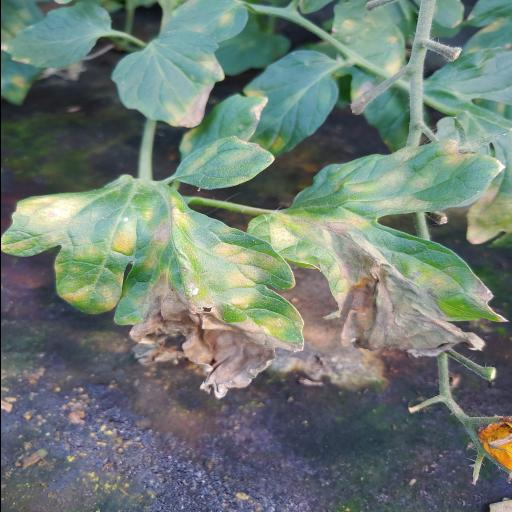Leaf Mold: (0, 175, 305, 399), (247, 138, 509, 359), (110, 28, 226, 130), (172, 136, 274, 190)
